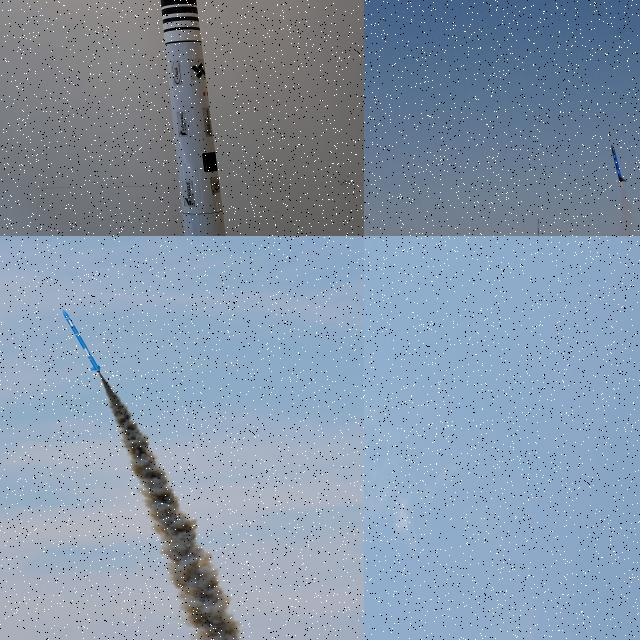Rocket: (160, 0, 226, 236), (62, 309, 102, 373), (610, 144, 627, 183), (386, 476, 391, 481)
